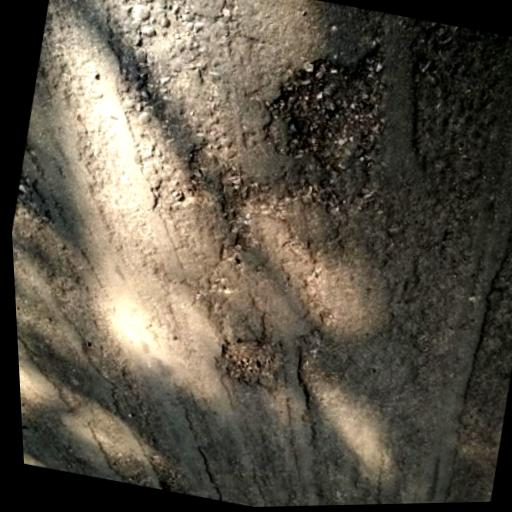pothole: (257, 32, 408, 178), (209, 330, 289, 398), (145, 458, 199, 496)
